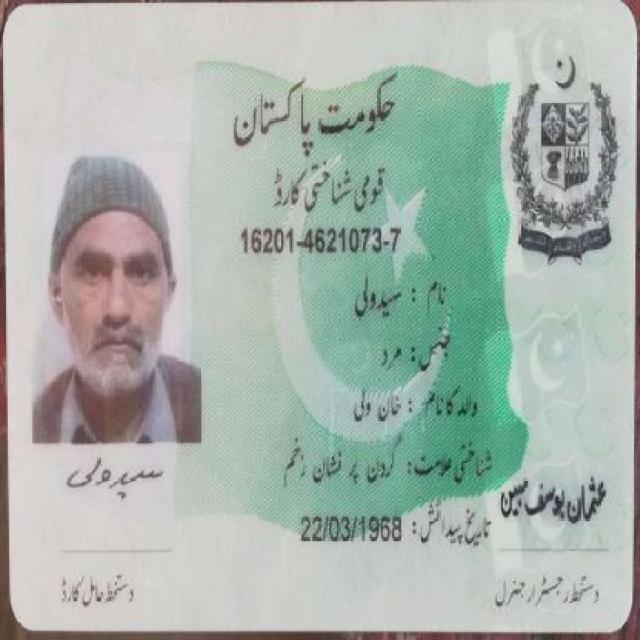Front: (8, 13, 628, 624)
